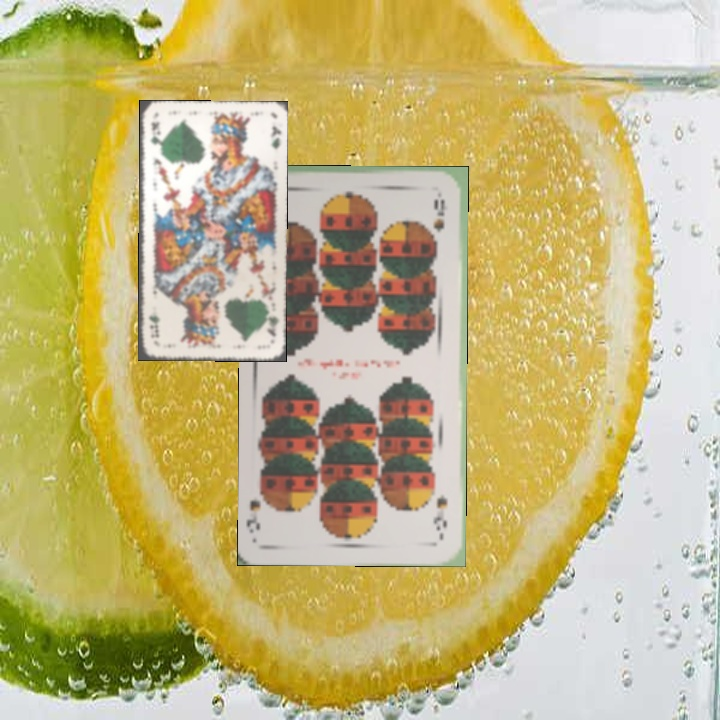GK: (263, 313, 282, 340), (146, 117, 162, 148)
S9: (430, 490, 450, 540)
